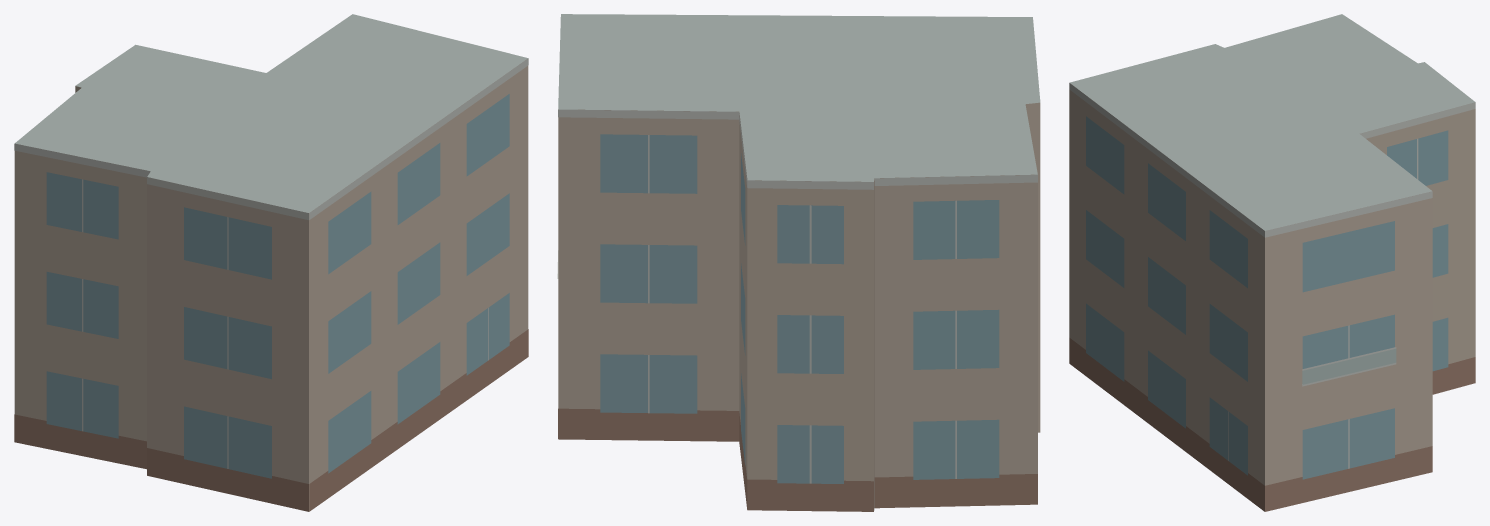
Rendered from survey-upis-33030726.glb.
The picture shows the model from 3 angles, left to right: view 1: azimuth 30°, elevation 25°; view 2: azimuth 150°, elevation 25°; view 3: azimuth 270°, elevation 25°; orthographic projection. The views are drawn at different scales.
Visible parts, largest first — view 1: survey-upis-33030726.tmp; view 2: survey-upis-33030726.tmp; view 3: survey-upis-33030726.tmp.
Part boxes in pixels (box(x1,y1,x2,y2)): survey-upis-33030726.tmp: box(14, 14, 528, 511); survey-upis-33030726.tmp: box(557, 14, 1040, 511); survey-upis-33030726.tmp: box(1069, 14, 1475, 511).
Bounding box in the file's own units: 16.91 × 10.2 × 13.38.
